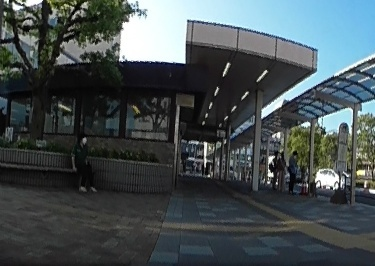person: (72, 130, 98, 193), (288, 149, 299, 188), (271, 150, 280, 187)
